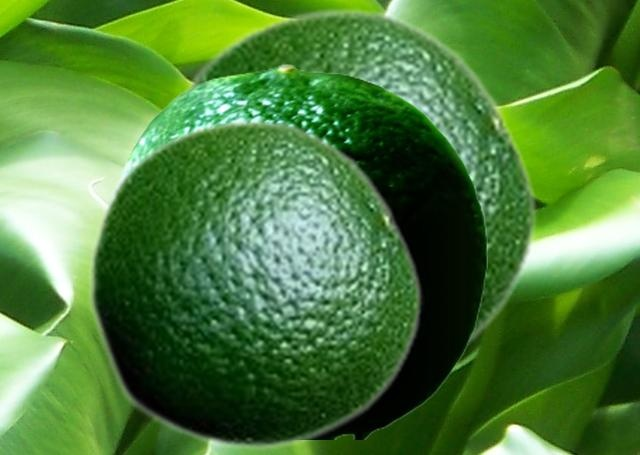calamansi: (113, 63, 486, 438), (175, 6, 538, 353), (86, 117, 423, 451)
